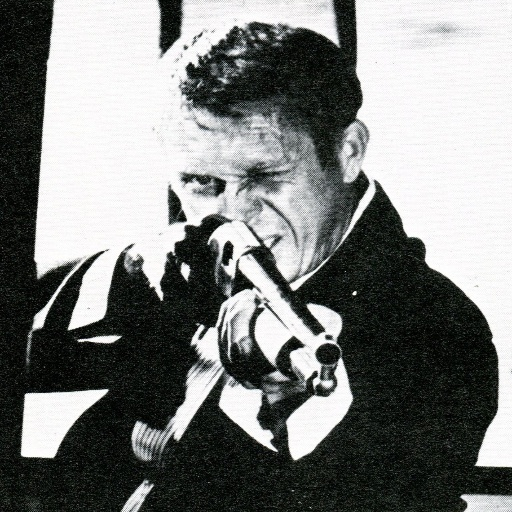hand: (220, 261, 331, 398), (139, 213, 223, 328)
